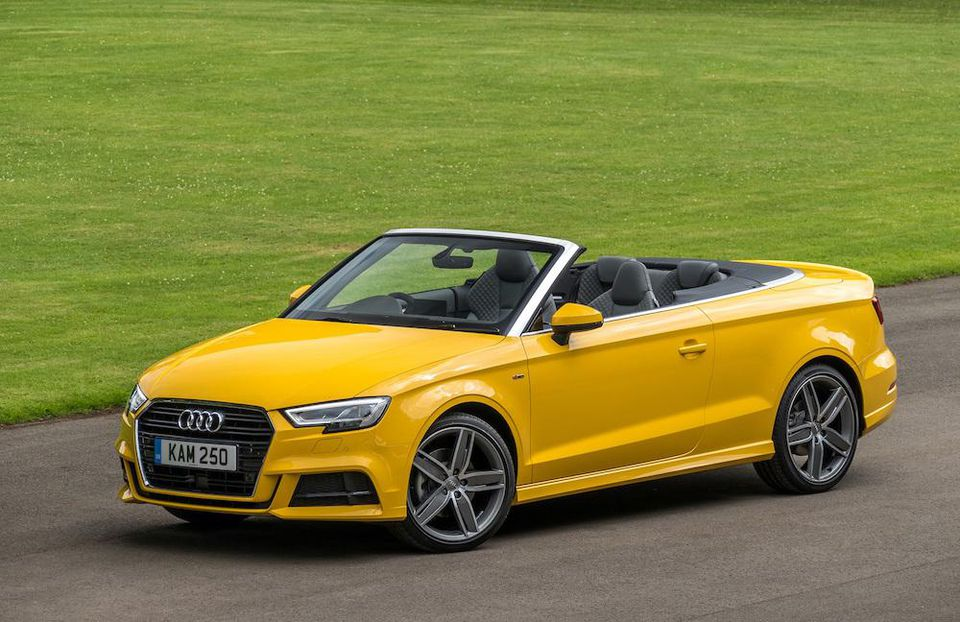car: (110, 228, 898, 554)
